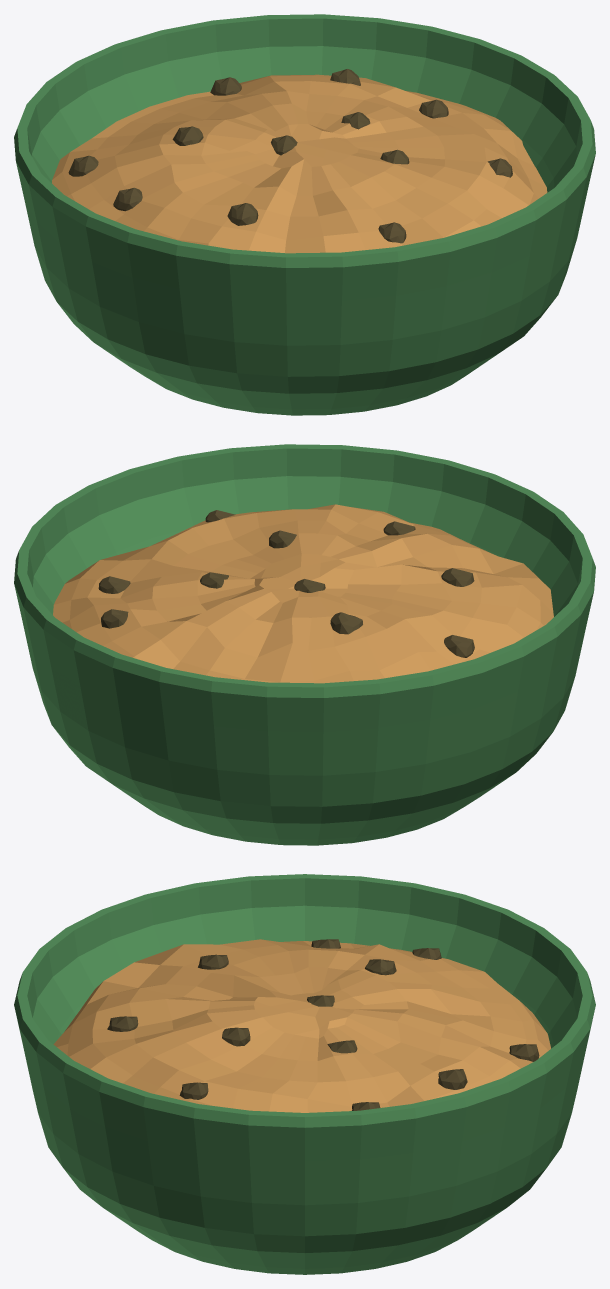
The model's file is darkCookieDoughBowl.fbx.
3 views of the same model, one above another, from view 1: azimuth 30°, elevation 25°; view 2: azimuth 150°, elevation 25°; view 3: azimuth 270°, elevation 25° (orthographic).
Parts seen in each view (by area): view 1: Cylinder, Sphere; view 2: Cylinder, Sphere; view 3: Cylinder, Sphere.
Part boxes in pixels (x1=…): Cylinder: x1=14, y1=14, x2=595, y2=415; Sphere: x1=52, y1=69, x2=547, y2=253; Cylinder: x1=14, y1=444, x2=595, y2=845; Sphere: x1=53, y1=504, x2=553, y2=683; Cylinder: x1=14, y1=874, x2=595, y2=1274; Sphere: x1=53, y1=939, x2=550, y2=1112.
Bounding box in the file's own units: 652 × 249 × 652.
